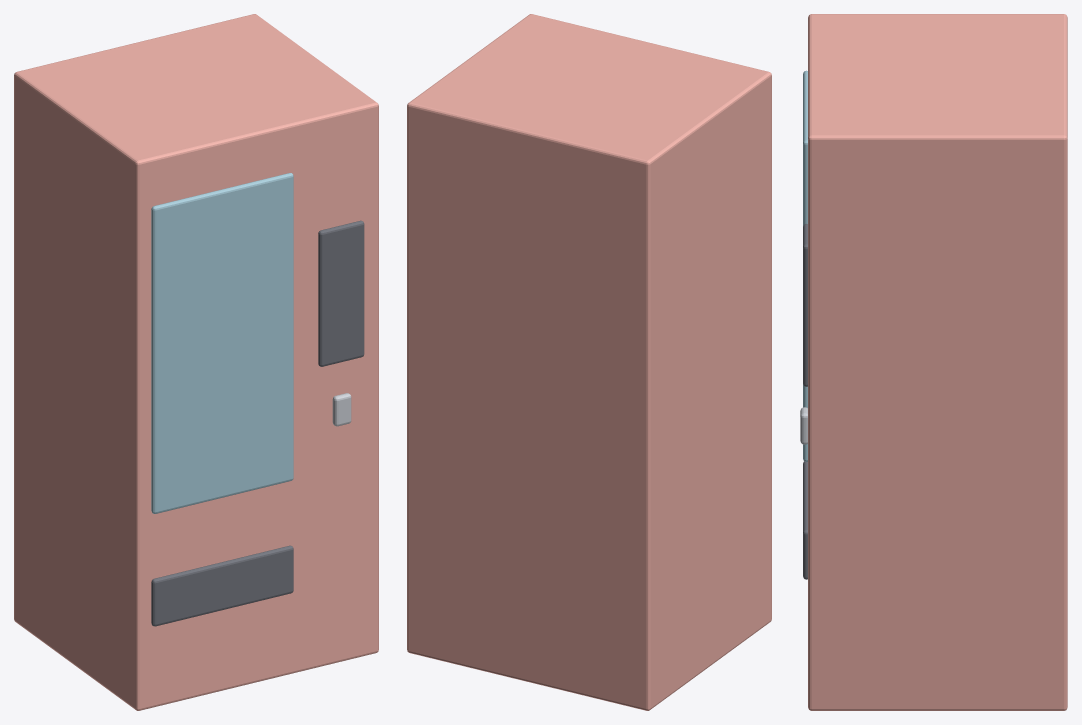
Rendered from VendingMachine.fbx.
The picture shows the model from 3 angles, left to right: view 1: azimuth 30°, elevation 25°; view 2: azimuth 150°, elevation 25°; view 3: azimuth 270°, elevation 25°; orthographic projection. The views are drawn at different scales.
Parts seen in each view (by area): view 1: VendingMachine; view 2: VendingMachine; view 3: VendingMachine.
Part boxes in pixels (<box>): VendingMachine: <box>14,14,378,710</box>; VendingMachine: <box>407,14,771,710</box>; VendingMachine: <box>800,14,1067,710</box>.
Bounding box in the file's own units: 0.86 × 1.86 × 0.7825.
